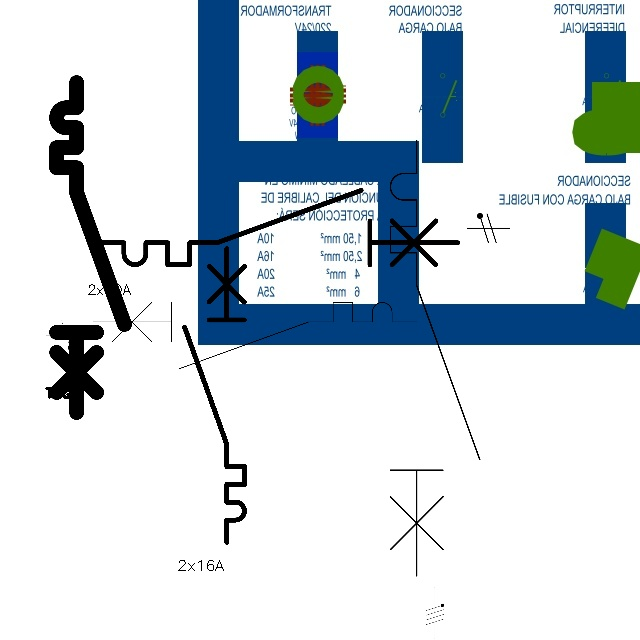interruptor_termomagnetico: (379, 129, 491, 587), (87, 181, 467, 274), (48, 74, 133, 421), (84, 294, 424, 377), (177, 241, 252, 550)
